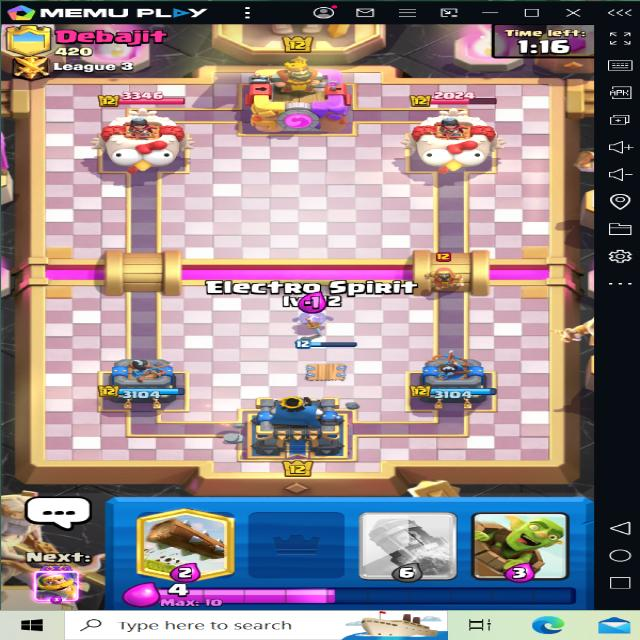wizard: (419, 247, 473, 293)
